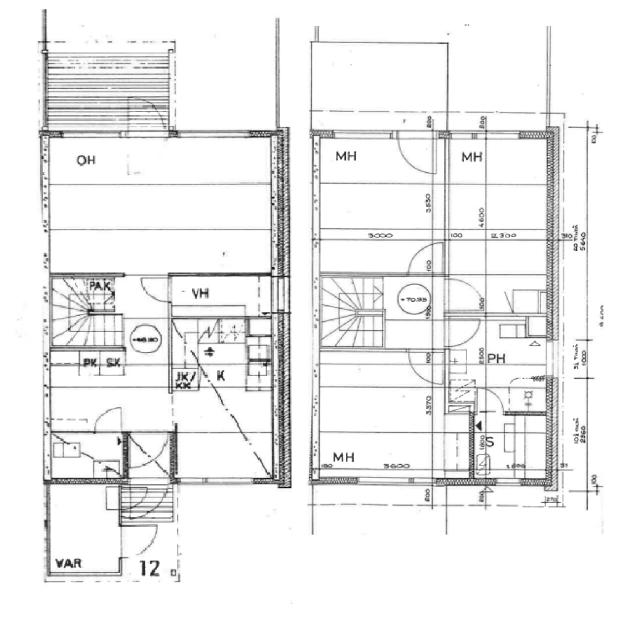door: (398, 130, 436, 174), (130, 479, 168, 519), (128, 97, 165, 138), (131, 432, 167, 468), (444, 280, 483, 311), (408, 348, 442, 382), (408, 242, 442, 276), (119, 528, 156, 559), (444, 319, 479, 347), (144, 279, 174, 302), (95, 408, 121, 434), (477, 390, 501, 416), (119, 488, 146, 510)
